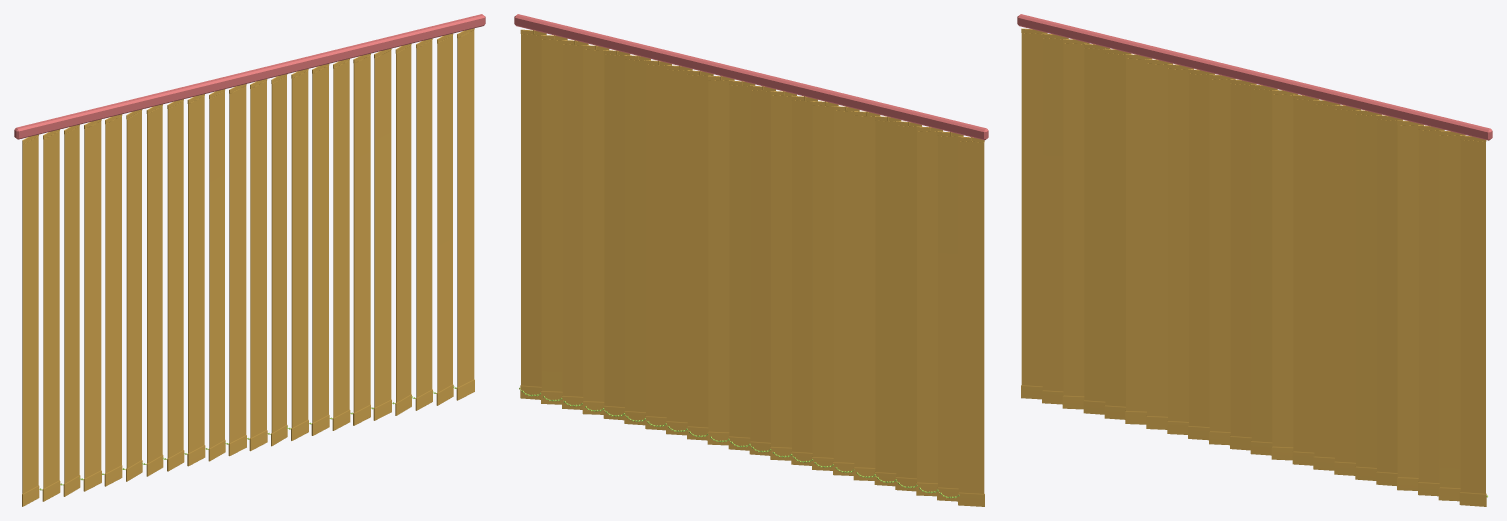
The model's file is lamellen.fbx.
3 views of the same model, side by side, from view 1: azimuth 30°, elevation 25°; view 2: azimuth 150°, elevation 25°; view 3: azimuth 330°, elevation 25° (orthographic).
Visible parts, largest first — view 1: lamellen; view 2: lamellen; view 3: lamellen.
Part boxes in pixels (box(x1,y1,x2,y2)): lamellen: box(14, 14, 485, 506); lamellen: box(514, 14, 988, 506); lamellen: box(1017, 14, 1492, 506).
Bounding box in the file's own units: 236 × 182 × 5.61.
